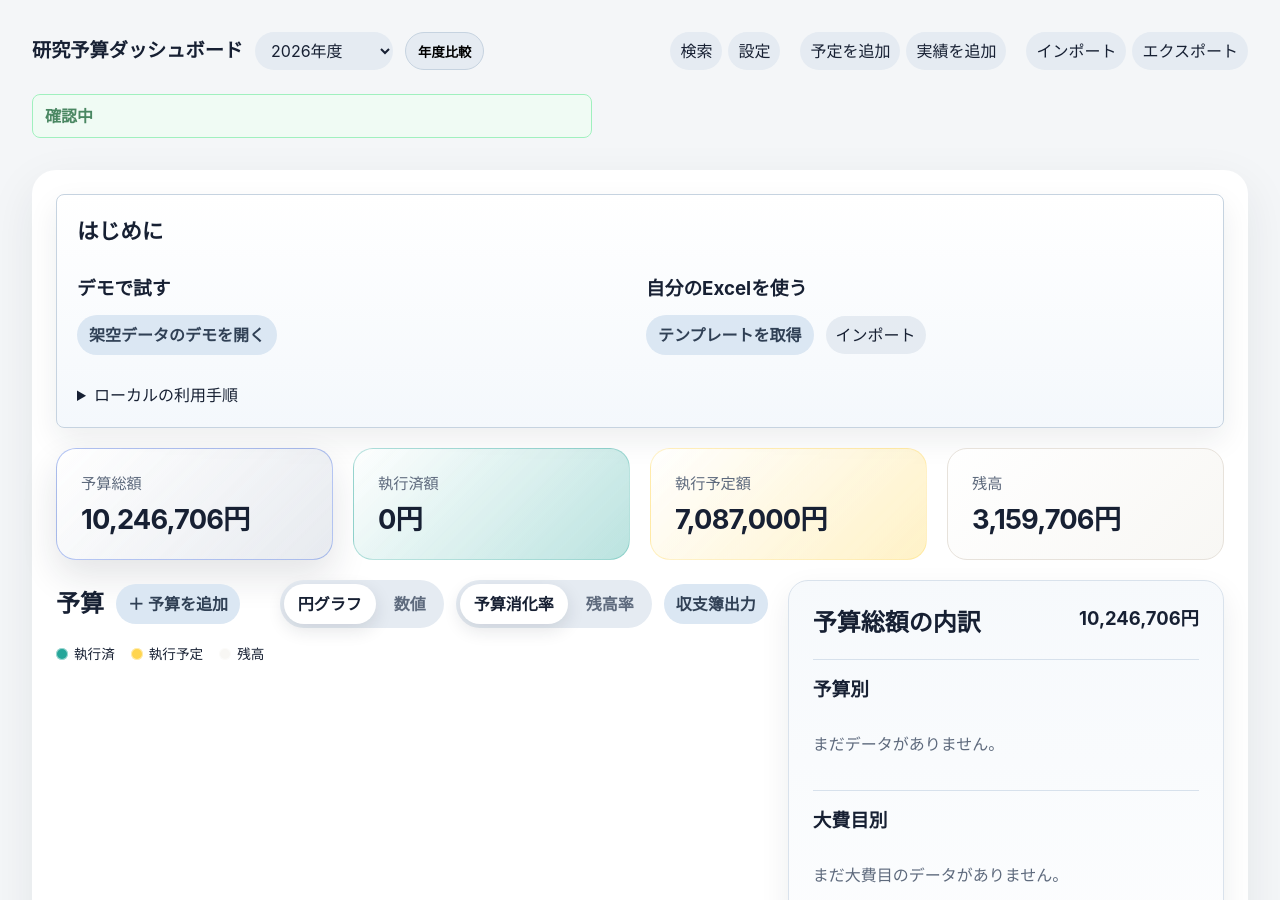
Test: Overview import/export › shows the preview reason and disables save when workbook export is unavailable
Click the button "エクスポート".
click(1190, 51)  # box [1132,32,1248,70]
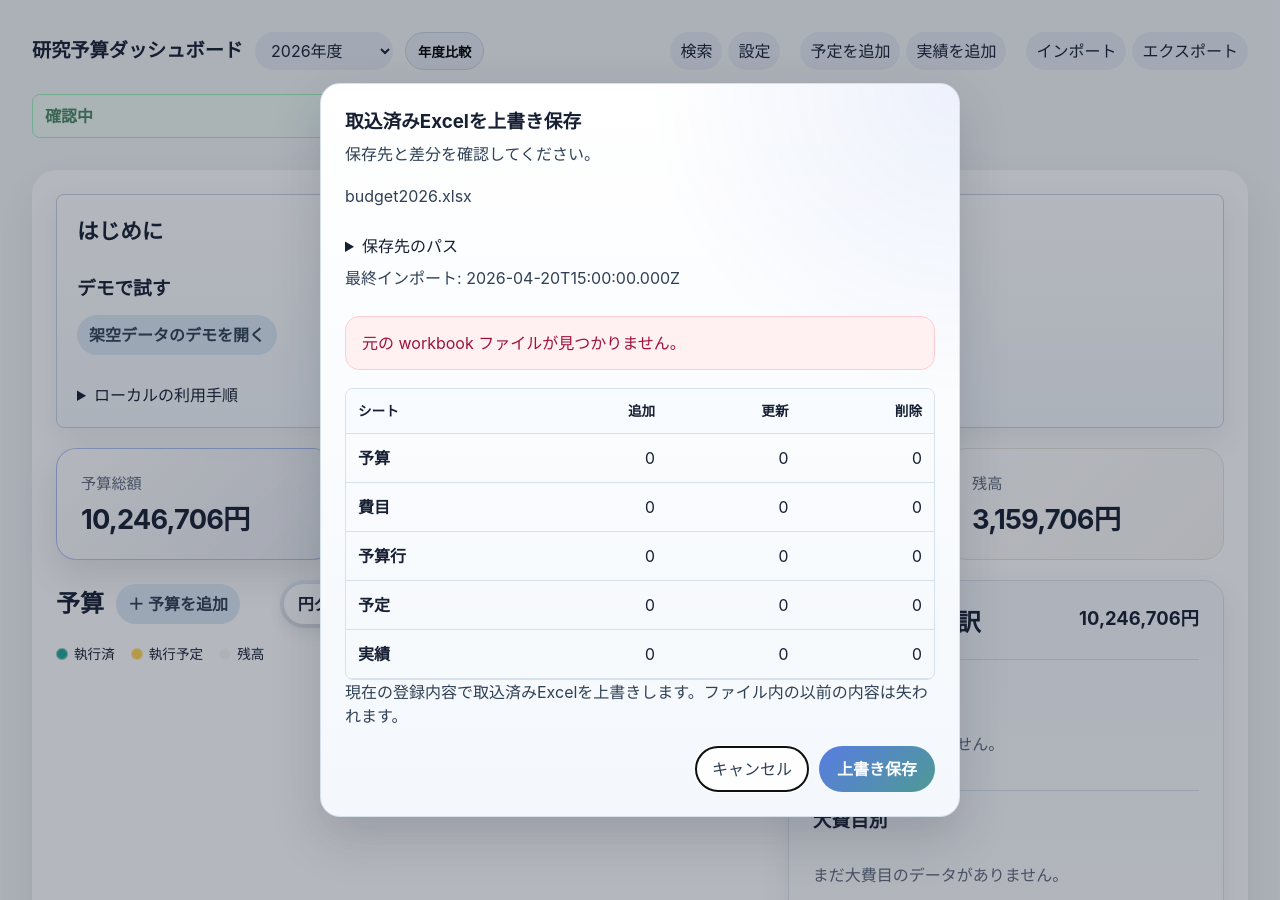
Expected: the text "元の workbook ファイルが見つかりません。" is shown, [345,316,935,370]
Expected: the button "上書き保存" is disabled, [819,746,935,792]
